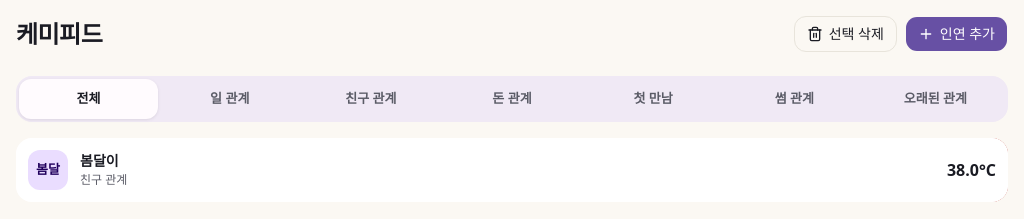
Scenario: FeedPage › 필터 0건이면 emptyFilter 메시지 표시, 전체 빈 상태 CTA는 미노출
Expected: the text "봄달이" is shown, [80,151,119,170]
Click the radio button labelled "썸 관계". click: {"x": 794, "y": 99}
box: [725,79,864,118]
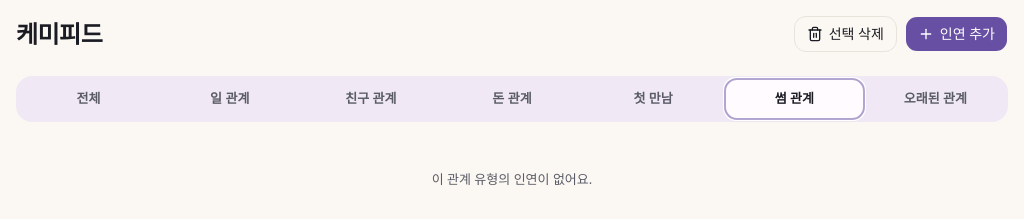
Now the text "이 관계 유형의 인연이 없어요." is shown, box [432,170,592,188]
